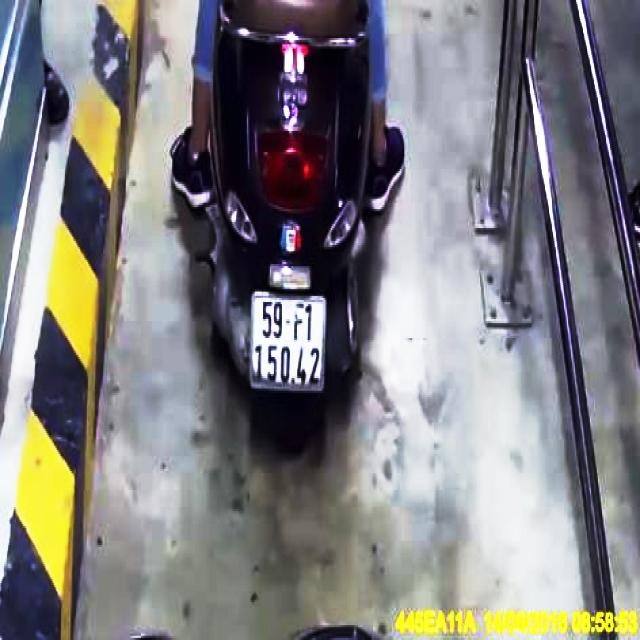license_plate: (252, 294, 325, 391)
